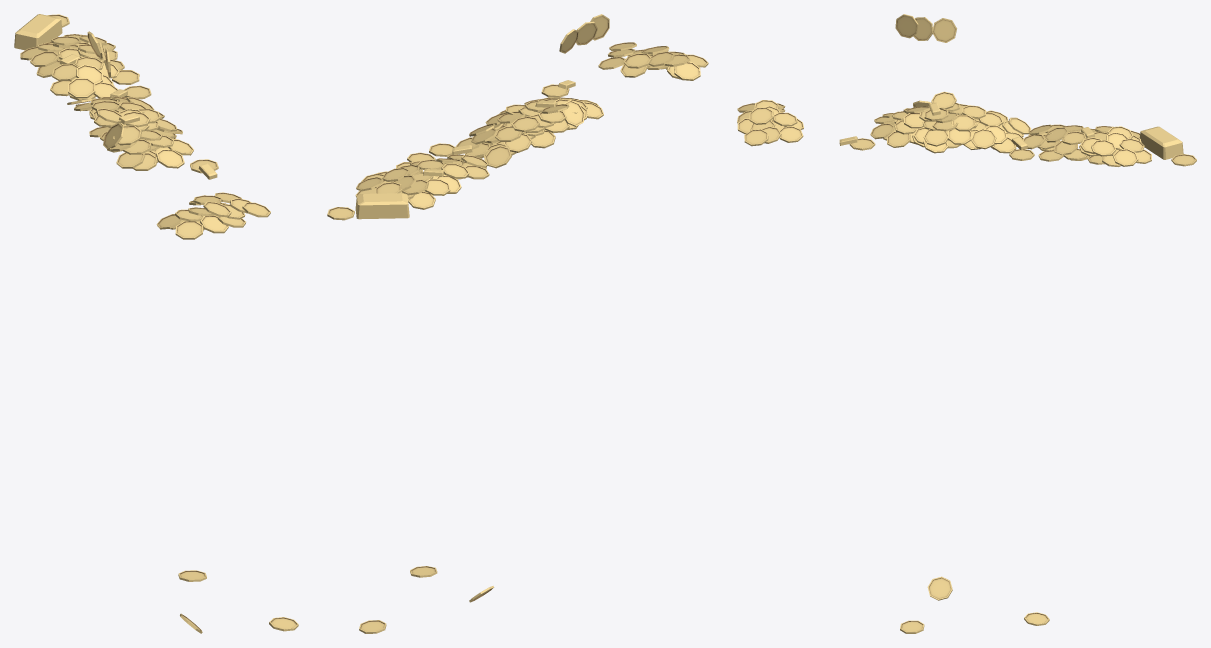
The model's file is coinPile.fbx.
The picture shows the model from 3 angles, left to right: view 1: azimuth 30°, elevation 25°; view 2: azimuth 150°, elevation 25°; view 3: azimuth 270°, elevation 25°; orthographic projection. The views are drawn at different scales.
Parts seen in each view (by area): view 1: coinPile, goldBar; view 2: coinPile, goldBar; view 3: coinPile, goldBar.
Boxes of the visible parts, left/top/right/bottom form: coinPile: left=20, top=14, right=298, bottom=633; goldBar: left=14, top=14, right=62, bottom=50; coinPile: left=327, top=14, right=708, bottom=633; goldBar: left=355, top=193, right=409, bottom=219; coinPile: left=737, top=14, right=1196, bottom=633; goldBar: left=1140, top=126, right=1183, bottom=159.
Bounding box in the file's own units: 71.94 × 196 × 152.
